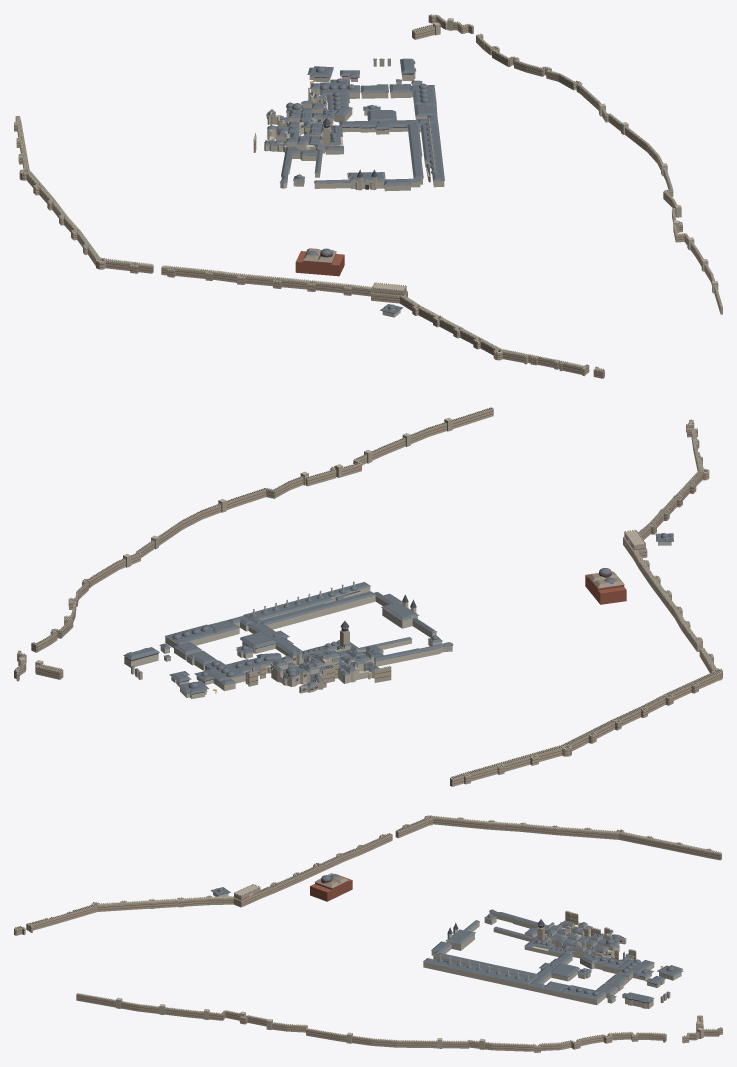
Rendered from topkapi.web.glb.
The picture shows the model from 3 angles, top to bottom: view 1: azimuth 30°, elevation 25°; view 2: azimuth 150°, elevation 25°; view 3: azimuth 270°, elevation 25°; orthographic projection. The views are drawn at different scales.
Visible parts, largest first — view 1: sur_sultani, third_court, harem, kitchens, second_court, fourth_court, aya_irini, babussaade, divan_adalet, babusselam; view 2: sur_sultani, harem, third_court, kitchens, second_court, fourth_court, aya_irini, divan_adalet, babusselam, babussaade; view 3: sur_sultani, third_court, harem, kitchens, second_court, fourth_court, divan_adalet, aya_irini, babusselam, babussaade.
Boxes of the visible parts, box(x1,y1,x2,y2) form: sur_sultani: box(14, 14, 722, 378); third_court: box(310, 82, 437, 122); harem: box(253, 87, 333, 152); kitchens: box(407, 117, 444, 187); second_court: box(279, 115, 437, 191); fourth_court: box(307, 58, 422, 85); aya_irini: box(295, 248, 344, 276); babussaade: box(339, 120, 418, 134); divan_adalet: box(314, 118, 343, 177); babusselam: box(347, 169, 385, 190); sur_sultani: box(14, 407, 722, 786); harem: box(245, 643, 391, 693); third_court: box(164, 620, 281, 691); kitchens: box(243, 581, 375, 629); second_court: box(228, 592, 453, 666); fourth_court: box(123, 643, 216, 698); aya_irini: box(585, 568, 626, 604); divan_adalet: box(300, 621, 412, 655); babusselam: box(381, 594, 419, 628); babussaade: box(247, 622, 302, 655); sur_sultani: box(14, 815, 722, 1052); third_court: box(543, 954, 654, 1005); harem: box(544, 910, 636, 961); kitchens: box(423, 953, 538, 990); second_court: box(431, 909, 547, 993); fourth_court: box(607, 965, 683, 1008); divan_adalet: box(493, 919, 572, 956); aya_irini: box(310, 873, 352, 901); babusselam: box(445, 922, 475, 950); babussaade: box(537, 952, 574, 982).
Size of what is drawn, in the model's own units: 795 by 45 by 1030.
